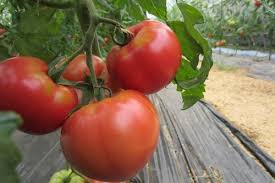tomato: (59, 94, 158, 176), (1, 55, 78, 136), (108, 19, 183, 96), (63, 55, 106, 91)
